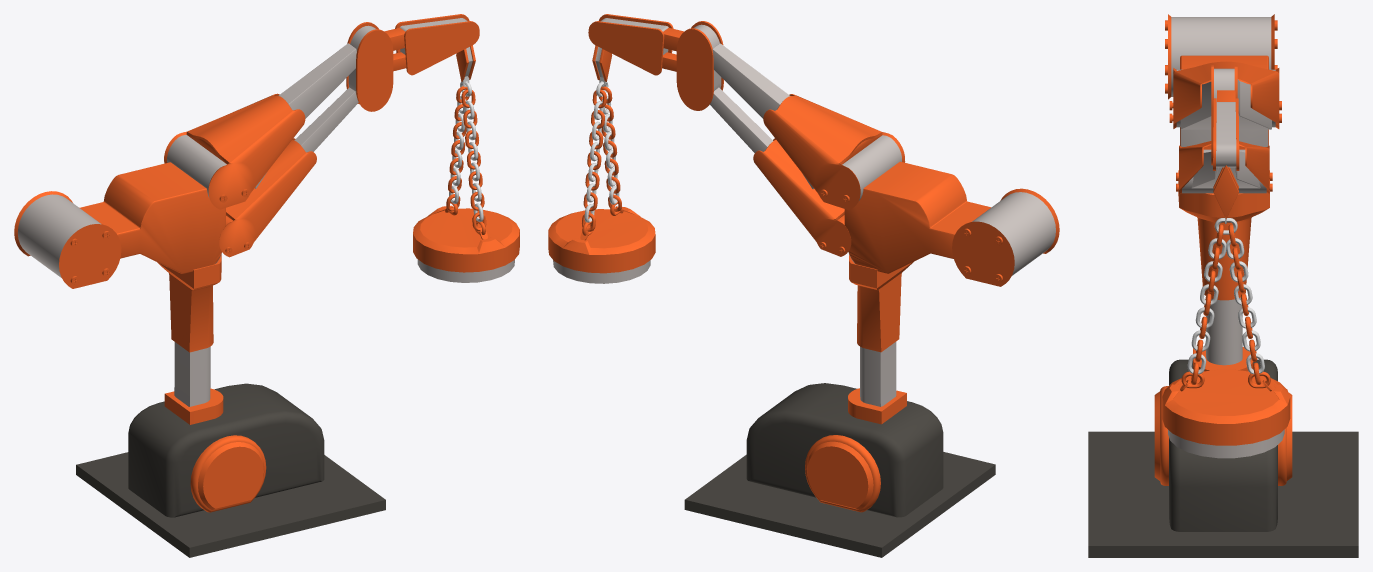
Rendered from Crane4.fbx.
3 views of the same model, side by side, from view 1: azimuth 30°, elevation 25°; view 2: azimuth 150°, elevation 25°; view 3: azimuth 270°, elevation 25° (orthographic). The views are drawn at different scales.
Visible parts, largest first — view 1: Cube.007, Cylinder.015, Cylinder.017, Plane.004, Torus.005; view 2: Cube.007, Cylinder.015, Cylinder.017, Plane.004, Torus.005; view 3: Cube.007, Cylinder.017, Plane.004, Cylinder.015, Torus.005.
Part boxes in pixels (x1,y1,x2,y2): Cube.007: [76, 383, 385, 557]; Cylinder.015: [164, 14, 479, 257]; Cylinder.017: [14, 162, 225, 406]; Plane.004: [413, 45, 519, 282]; Torus.005: [449, 95, 483, 221]; Cube.007: [684, 383, 995, 557]; Cylinder.015: [588, 14, 905, 256]; Cylinder.017: [844, 161, 1059, 406]; Plane.004: [548, 45, 655, 283]; Torus.005: [584, 96, 619, 222]; Cube.007: [1088, 347, 1358, 557]; Cylinder.017: [1165, 14, 1277, 365]; Plane.004: [1162, 165, 1290, 458]; Cylinder.015: [1169, 61, 1281, 194]; Torus.005: [1187, 238, 1264, 374].
Size of the model in its own units: 243 by 210 by 100.
